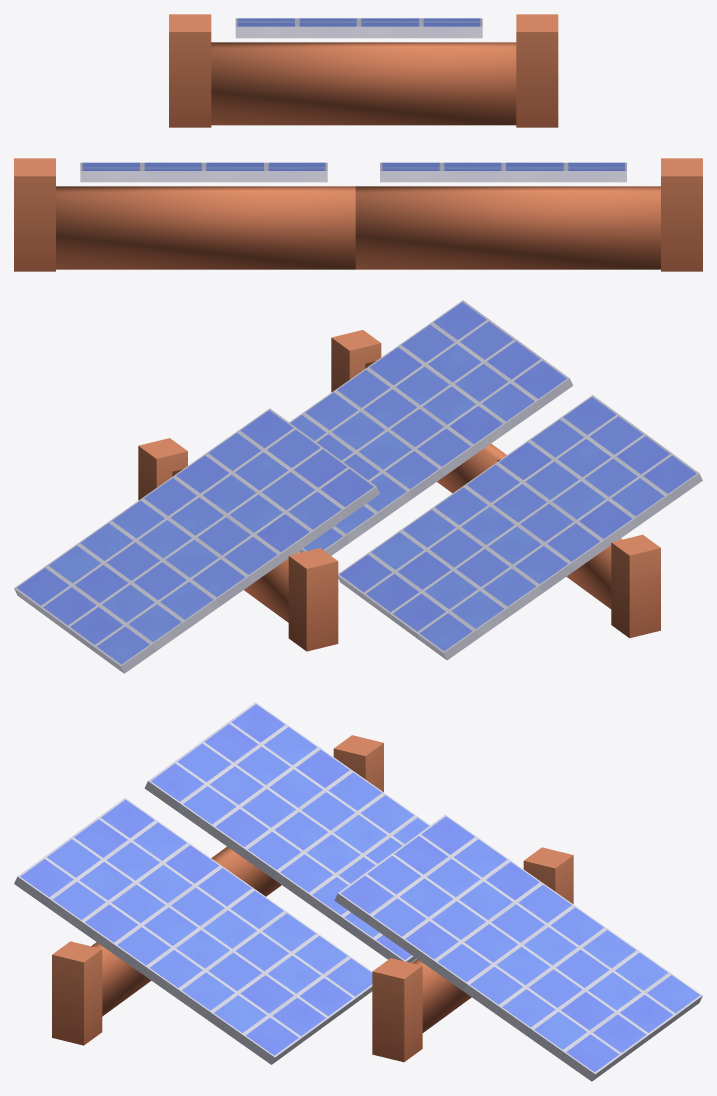
Rendered from solarFarm.fbx.
The picture shows the model from 3 angles, top to bottom: view 1: azimuth 30°, elevation 25°; view 2: azimuth 150°, elevation 25°; view 3: azimuth 270°, elevation 25°; orthographic projection. The views are drawn at different scales.
Parts seen in each view (by area): view 1: building_farm, building_farm.001, building_farm.002; view 2: building_farm, building_farm.002, building_farm.001; view 3: building_farm, building_farm.001, building_farm.002.
Boxes of the visible parts, x1=… form: building_farm: x1=169, y1=14, x2=558, y2=127; building_farm.001: x1=355, y1=158, x2=702, y2=271; building_farm.002: x1=14, y1=158, x2=355, y2=271; building_farm: x1=14, y1=408, x2=379, y2=673; building_farm.002: x1=338, y1=395, x2=702, y2=660; building_farm.001: x1=289, y1=300, x2=573, y2=555; building_farm: x1=334, y1=814, x2=702, y2=1081; building_farm.001: x1=14, y1=798, x2=372, y2=1064; building_farm.002: x1=144, y1=702, x2=430, y2=962.
Bounding box in the file's own units: 83.31 × 19.03 × 93.84.
Materials: 3 (3 with a texture image).
